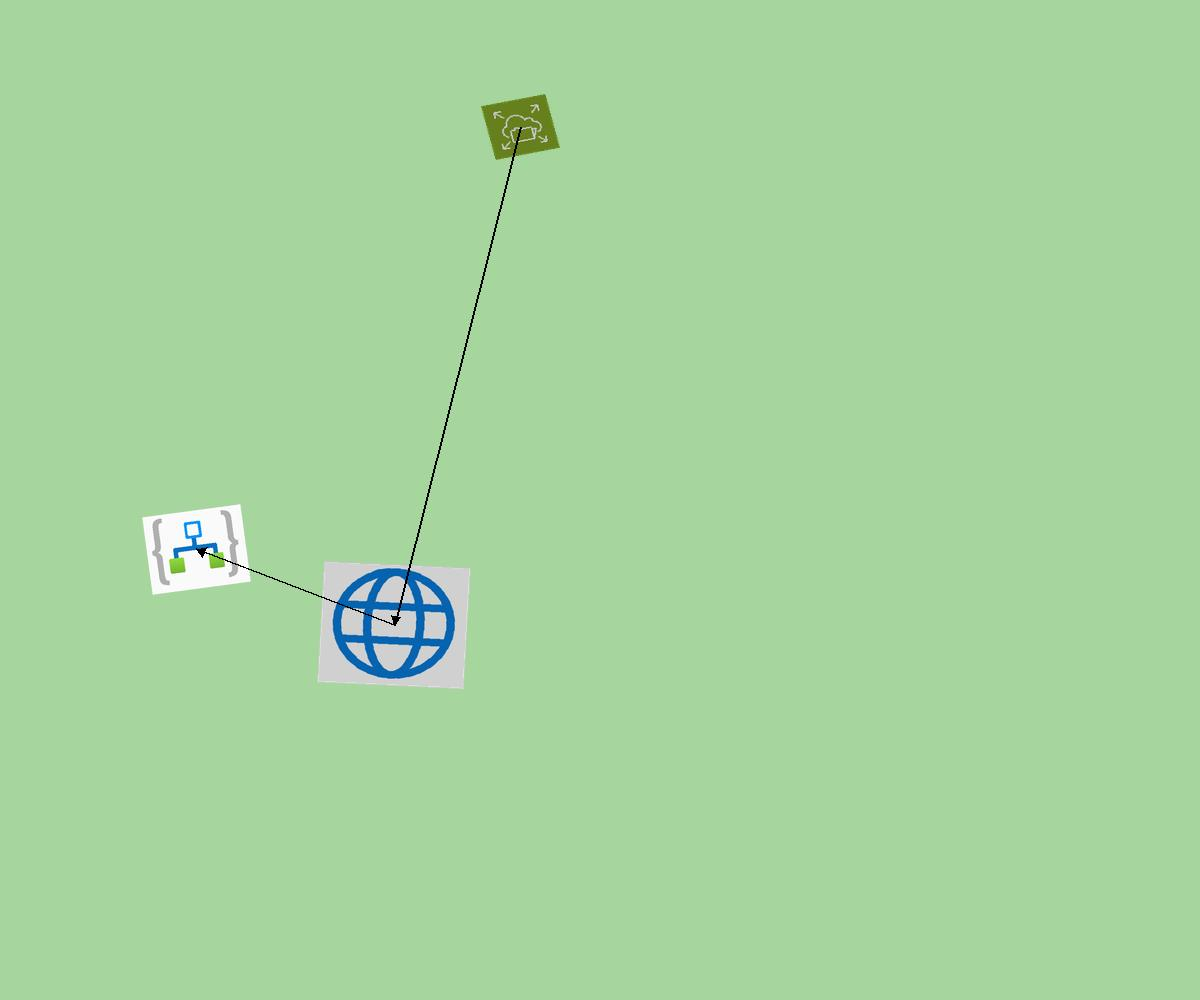AWS-EFS: (481, 94, 560, 160)
Azure_http: (317, 561, 471, 689)
Azure_integration-204-Logic-Apps: (142, 504, 251, 595)
